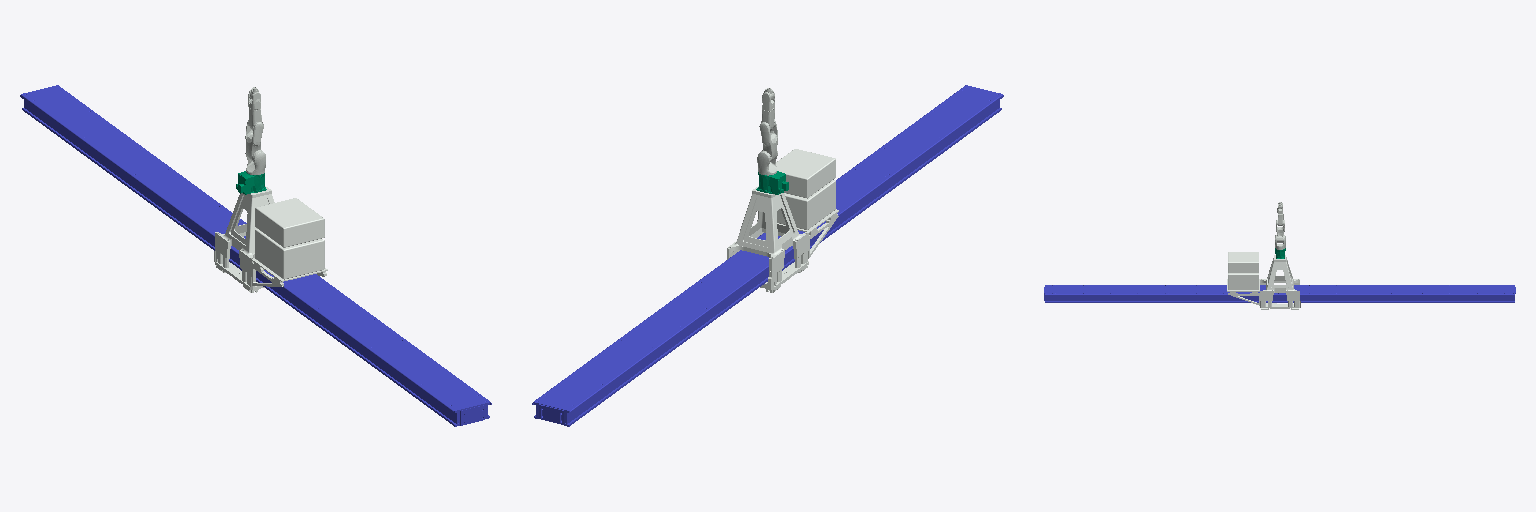
robot.urdf — melo:
<?xml version="1.0" encoding="utf-8"?>

<robot name="melo">
    <material name="grey">
        <color rgba="0.8392 0.8666 0.847 1"/>
    </material>
    <material name="white">
        <color rgba="0.9392 0.9666 0.947 1"/>
    </material>
    <material name="blue">
        <color rgba="0.3392 0.3666 0.847 1"/>
    </material>

    <link name="track">
        <visual>
            <geometry>
                <mesh filename="./melo_meshes/track.stl" scale="0.001 0.001 0.001"/>
            </geometry>
            <material name="blue"/>
        </visual>
    </link>
    <link name="support">
        <visual>
            <origin rpy="0 0 0" xyz="0 -0.27 0.46"/>
            <geometry>
                <mesh filename="./melo_meshes/support.stl" scale="1 1 1"/>
            </geometry>
            <material name="white"/>
        </visual>
        <collision>
            <origin rpy="0 0 0" xyz="0 -0.27 0.6"/>
            <geometry>
                <box size="0.55 1.2 0.6" />
            </geometry>
        </collision>
    </link>
    <joint name="track_to_support" type="prismatic">
        <parent link="track" />
        <child link="support" />
        <origin xyz="0 0 0" />
        <axis xyz="0 1 0" />
        <!-- <limit effort="1" lower="-4" upper="4" velocity="100" /> -->
    </joint>
    <link name="base_link">
        <visual>
            <origin rpy="0 0 0" xyz="0 0 0" />
            <geometry>
                <mesh filename="./melo_meshes/base_link.stl" scale="1 1 1" />
            </geometry>
        </visual>
        <collision>
            <origin rpy="0 0 0" xyz="-0.05 0 0.1"/>
            <geometry>
                <box size="0.25 0.15 0.2" />
            </geometry>
        </collision>
    </link>
    <joint name="support_to_base" type="fixed">
        <parent link="support" />
        <child link="base_link" />
        <origin xyz="0 0 0.88"/>
    </joint>
    <link name="J1">
        <visual>
            <origin rpy="0 0 0" xyz="0 0 0" />
            <geometry>
                <mesh filename="./melo_meshes/J1.stl" scale="1 1 1" />
            </geometry>
            <material name="grey"/>
        </visual>
        <collision>
            <origin rpy="0 0 0" xyz="0 0 0.07"/>
            <geometry>
                <cylinder radius="0.1" length="0.2" />
            </geometry>
        </collision>
    </link>
    <joint name="joint_1" type="revolute">
        <parent link="base_link" />
        <child link="J1" />
        <origin rpy="0.000000 0.000000 0.000000" xyz="0.000000 0.000000 0.181500" />
        <axis xyz="-0.000000 -0.000000 1.000000" />
        <!-- <limit effort="1" lower="-2.96706" upper="2.96706" velocity="3.92699081698724" /> -->
    </joint>
    <link name="J2">
        <visual>
            <origin rpy="0 0 0" xyz="0 0 0" />
            <geometry>
                <mesh filename="./melo_meshes/J2.stl" scale="1 1 1" />
            </geometry>
            <material name="grey"/>
        </visual>
        <collision>
            <origin rpy="0 0 0" xyz="0 0 0.15"/>
            <geometry>
                <cylinder radius="0.08" length="0.35" />
            </geometry>
        </collision>
    </link>
    <joint name="joint_2" type="revolute">
        <parent link="J1" />
        <child link="J2" />
        <origin rpy="0.000000 0.000000 0.000000" xyz="0.000000 0.000000 0.163500" />
        <axis xyz="-0.000000 1.000000 -0.000000" />
        <!-- <limit effort="1" lower="-2.094395" upper="2.094395" velocity="2.61799387799149" /> -->
    </joint>
    <link name="J3">
        <visual>
            <origin rpy="0 0 0" xyz="0 0 0" />
            <geometry>
                <mesh filename="./melo_meshes/J3.stl" scale="1 1 1" />
            </geometry>
            <material name="grey"/>
        </visual>
        <collision>
            <origin rpy="0 0 0" xyz="0 0 0.08"/>
            <geometry>
                <cylinder radius="0.06" length="0.18" />
            </geometry>
        </collision>
    </link>
    <joint name="joint_3" type="revolute">
        <parent link="J2" />
        <child link="J3" />
        <origin rpy="0.000000 0.000000 0.000000" xyz="0.000000 0.000000 0.305000" />
        <axis xyz="-0.000000 1.000000 -0.000000" />
        <!-- <limit effort="1" lower="-2.181662" upper="2.70526" velocity="2.85832571599111" /> -->
    </joint>
    <link name="J4">
        <visual>
            <origin rpy="0 0 0" xyz="0 0 0" />
            <geometry>
                <mesh filename="./melo_meshes/J4.stl" scale="1 1 1" />
            </geometry>
            <material name="grey"/>
        </visual>
        <collision>
            <origin rpy="0 0 0" xyz="0 0 0.09"/>
            <geometry>
                <cylinder radius="0.05" length="0.12" />
            </geometry>
        </collision>
    </link>
    <joint name="joint_4" type="revolute">
        <parent link="J3" />
        <child link="J4" />
        <origin rpy="0.000000 0.000000 0.000000" xyz="-0.010000 0.000000 0.164500" />
        <axis xyz="-0.000000 -0.000000 1.000000" />
        <!-- <limit effort="1" lower="-4.712389" upper="4.712389" velocity="3.92699081698724" /> -->
    </joint>
    <link name="J5">
        <visual>
            <origin rpy="0 0 0" xyz="0 0 0" />
            <geometry>
                <mesh filename="./melo_meshes/J5.stl" scale="1 1 1" />
            </geometry>
            <material name="grey"/>
        </visual>
        <!-- <collision>
            <origin rpy="0 0 0" xyz="0 0 0.02"/>
            <geometry>
                <cylinder radius="0.03" length="0.05" />
            </geometry>
        </collision> -->
    </link>
    <joint name="joint_5" type="revolute">
        <parent link="J4" />
        <child link="J5" />
        <origin rpy="0.000000 0.000000 0.000000" xyz="0.000000 0.000000 0.135500" />
        <axis xyz="-0.000000 1.000000 -0.000000" />
        <!-- <limit effort="1" lower="-2.094395" upper="2.094395" velocity="3.02168853397778" /> -->
    </joint>
    <link name="J6">
        <visual>
            <origin rpy="0 0 0" xyz="0 0 0" />
            <geometry>
                <mesh filename="./melo_meshes/J6.stl" scale="1 1 1" />
            </geometry>
            <material name="grey"/>
        </visual>
        <visual>
            <origin rpy="-1.570 0 0" xyz="0 0 0" />
            <geometry>
                <mesh filename="./melo_meshes/eef_assy.stl" scale="1 1 1" />
            </geometry>
            <material name="grey"/>
        </visual>
        <collision>
            <origin rpy="-1.570 0 0" xyz="0 0 0.13" />
            <geometry>
                <box size="0.35 0.22 0.25" />
            </geometry>
        </collision>
    </link>
    <joint name="joint_6" type="revolute">
        <parent link="J5" />
        <child link="J6" />
        <origin rpy="0.000000 0.000000 0.000000" xyz="0.000000 0.000000 0.070000" />
        <axis xyz="-0.000000 -0.000000 1.000000" />
        <!-- <limit effort="1" lower="-6.283185" upper="6.283185" velocity="6.28318530717959" /> -->
    </joint>
</robot>

--- Facts derived from the render (not from the file) ---
Views: 3 orthographic renders of the robot side by side, from view 1: azimuth 30°, elevation 25°; view 2: azimuth 150°, elevation 25°; view 3: azimuth 270°, elevation 25°.
Robot: melo — 9 links, 8 joints (6 revolute, 1 prismatic, 1 fixed); root link track; default pose: all joints at 0.
Links seen in each view (by area): view 1: track, support, base_link; view 2: track, support, base_link; view 3: track, support.
Link boxes in pixels (x1,y1,x2,y2): track: [20, 85, 491, 426]; support: [214, 186, 327, 292]; base_link: [236, 171, 266, 194]; track: [532, 85, 1003, 426]; support: [727, 149, 838, 292]; base_link: [756, 171, 788, 194]; track: [1044, 285, 1515, 302]; support: [1227, 252, 1300, 309].
Size in the robot's own frame: 0.5 by 7.92 by 1.89 metres.
9 mesh visuals loaded from 10 distinct referenced files (9 binary STL); not drawn: 1 (reference not matched to a file when rendering).
